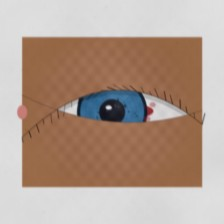hemorrhage_spot: (74, 74, 166, 148)
